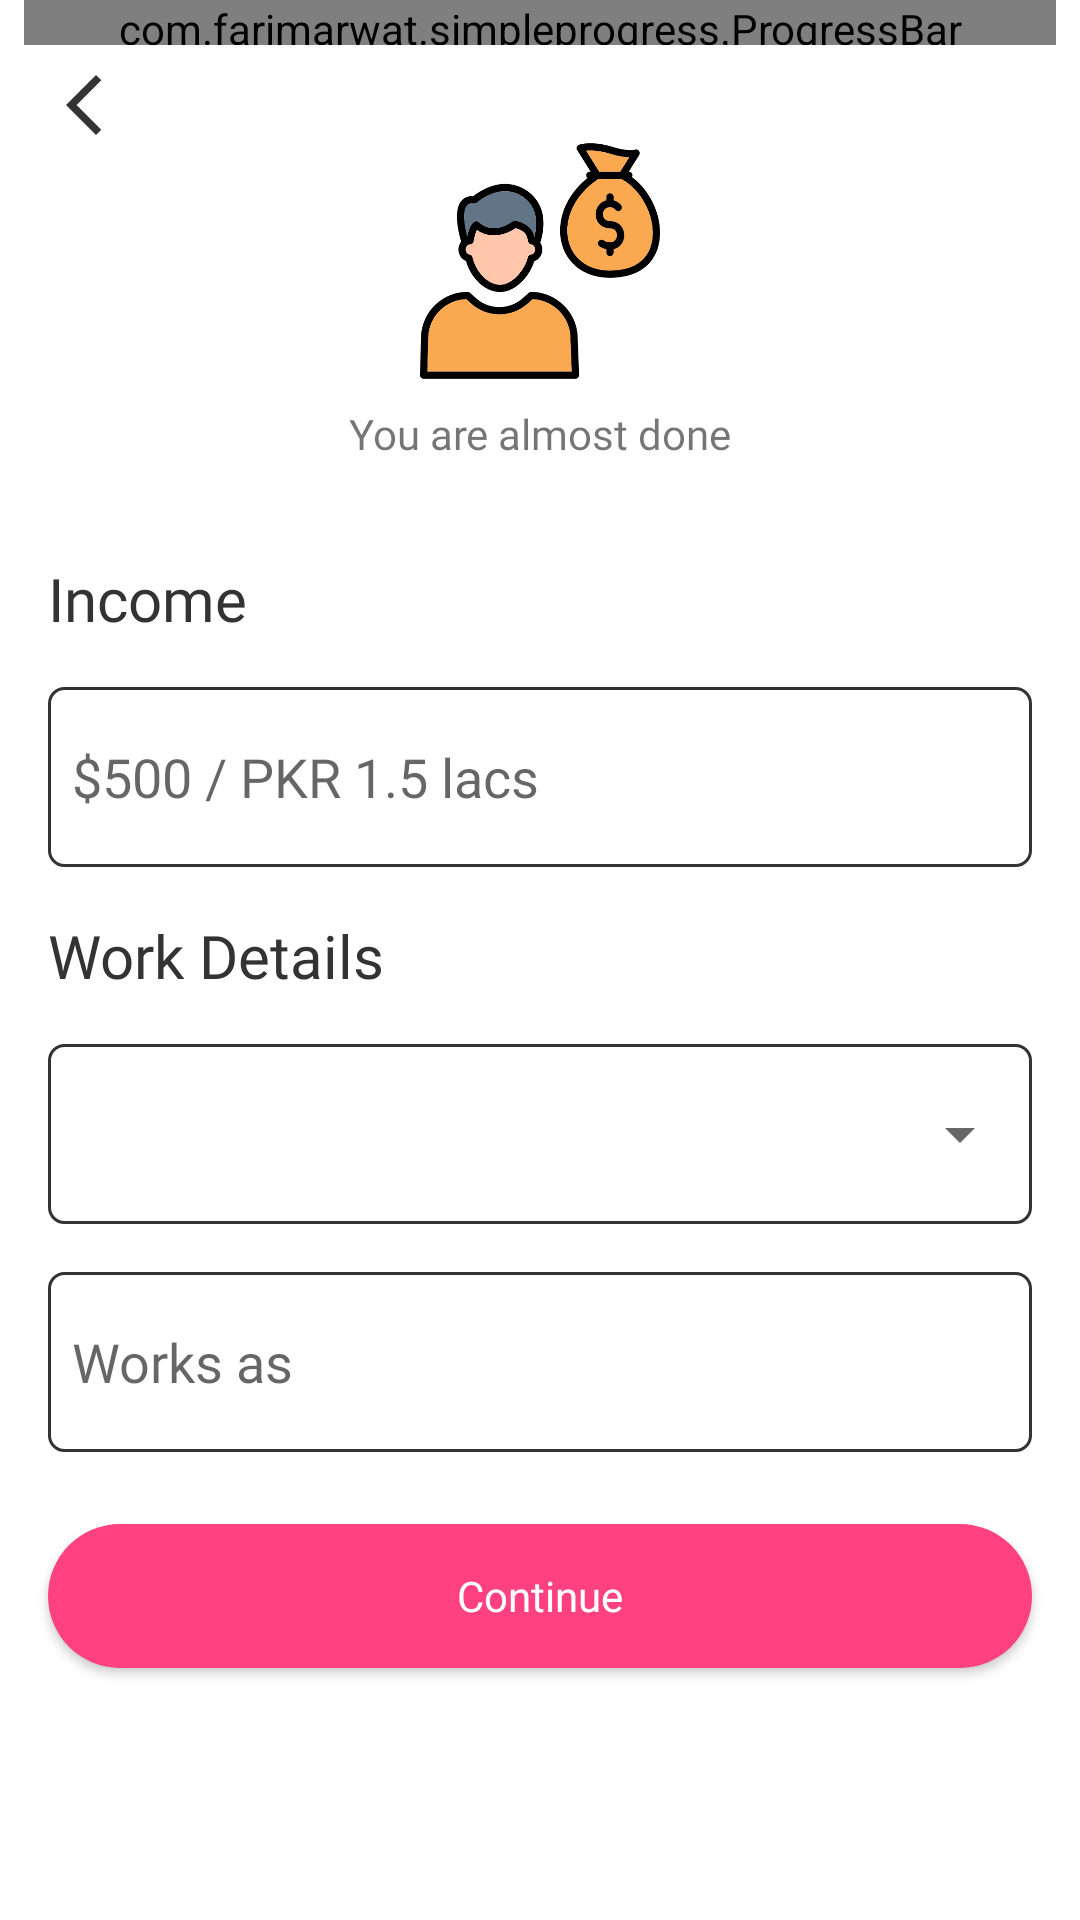

Icons on this 1080x1920 Android screen, each with the point to tap as (x=x, y=y):
arrow back: (x=83, y=105)
income: (x=540, y=261)
